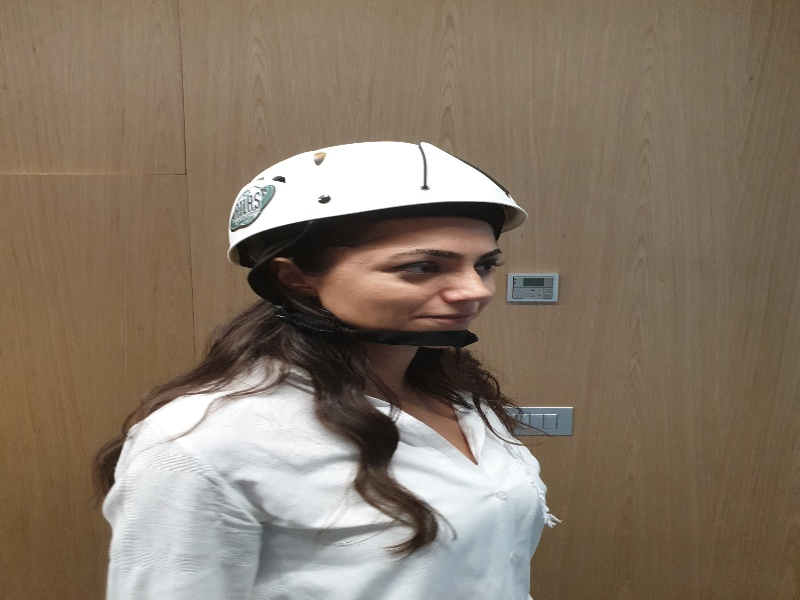Baret: (226, 140, 526, 257)
